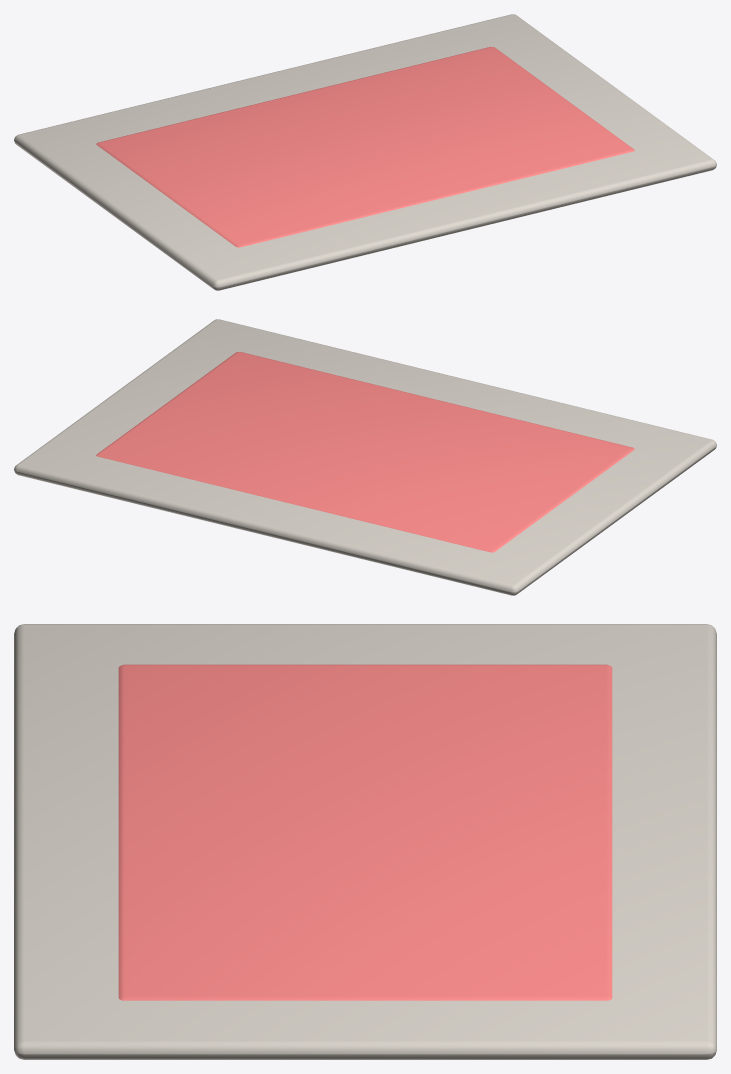
File: rug.glb
3 renders of one model, top to bottom at view 1: azimuth 30°, elevation 25°; view 2: azimuth 150°, elevation 25°; view 3: azimuth 270°, elevation 25°, orthographic. The views are drawn at different scales.
Visible parts, largest first — view 1: rug; view 2: rug; view 3: rug.
Boxes of the visible parts, x1,y1,x2,y2 form: rug: (14,14,716,290); rug: (14,319,716,595); rug: (14,624,716,1059).
Bounding box in the file's own units: 1 × 0.022 × 0.7.
